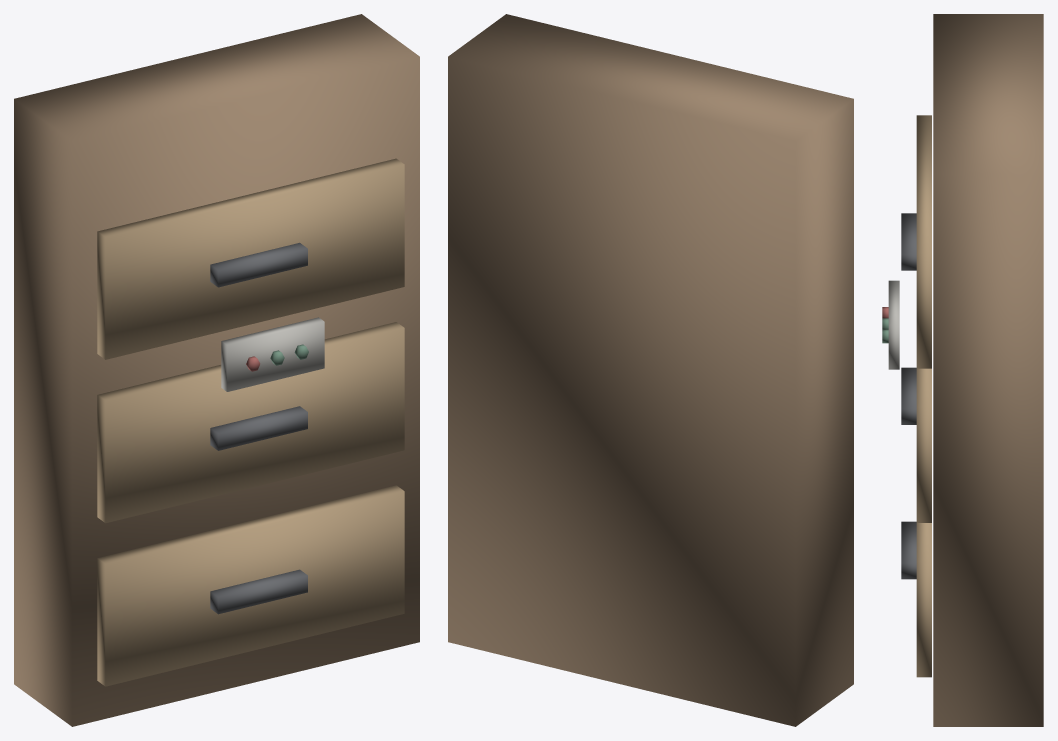
File: medicine_cabinet__tall.glb
3 renders of one model, left to right at view 1: azimuth 30°, elevation 25°; view 2: azimuth 150°, elevation 25°; view 3: azimuth 270°, elevation 25°, orthographic. The views are drawn at different scales.
Visible parts, largest first — view 1: world; view 2: world; view 3: world.
Boxes of the visible parts, x1=… form: world: x1=14, y1=14, x2=419, y2=726; world: x1=448, y1=14, x2=853, y2=726; world: x1=882, y1=14, x2=1043, y2=726.
Bounding box in the file's own units: 0.62 × 0.9976 × 0.2635.
